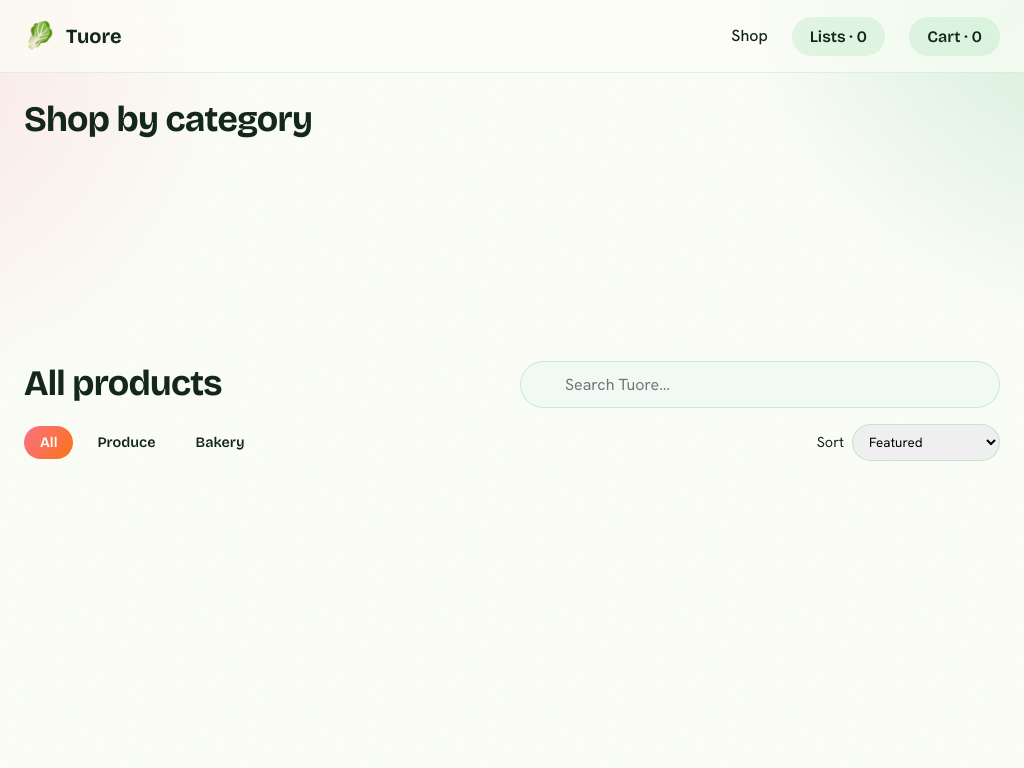
Scenario: SearchAutocomplete (via StoreHome) › shows suggestions when typing a matching query
(page scrolled)
Type "or" into the dropdown named "Search products" at [760, 384], box [520,361,1000,408]
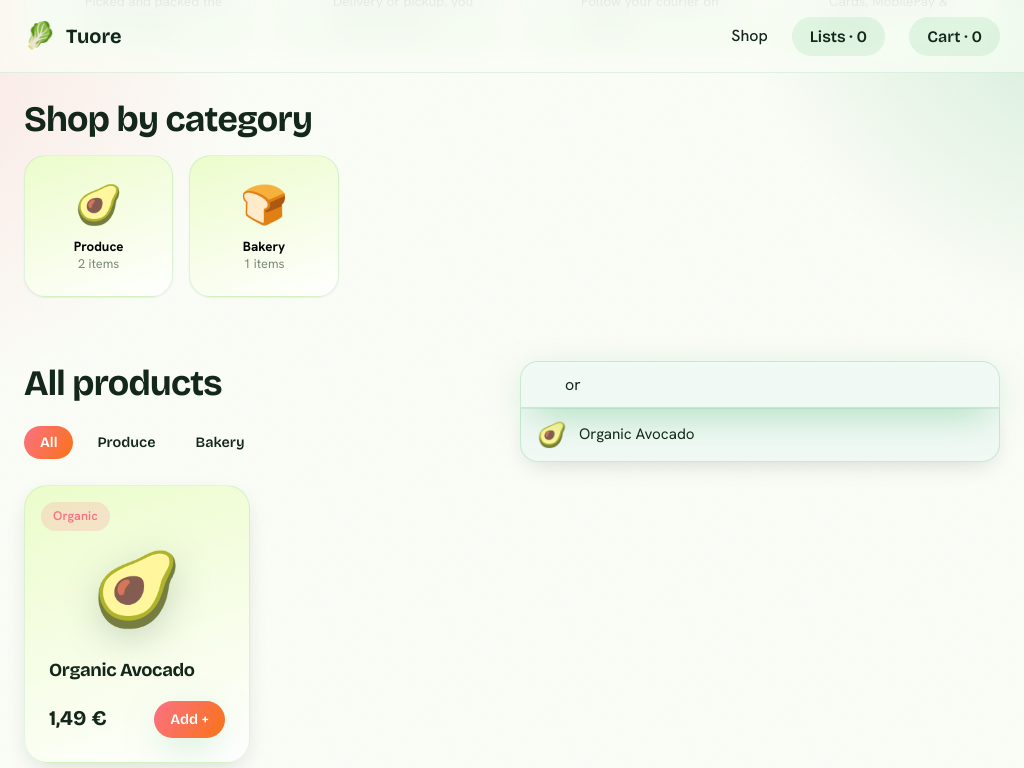
Expected: the dropdown named "Search products" is expanded, [520,361,1000,408]
